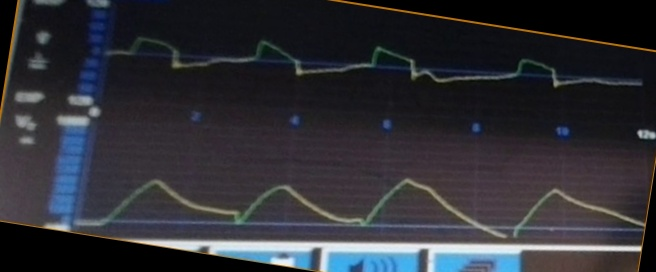Premature_cycling Flow: (109, 33, 641, 107)
Premature_cycling Volume: (85, 170, 641, 236)
